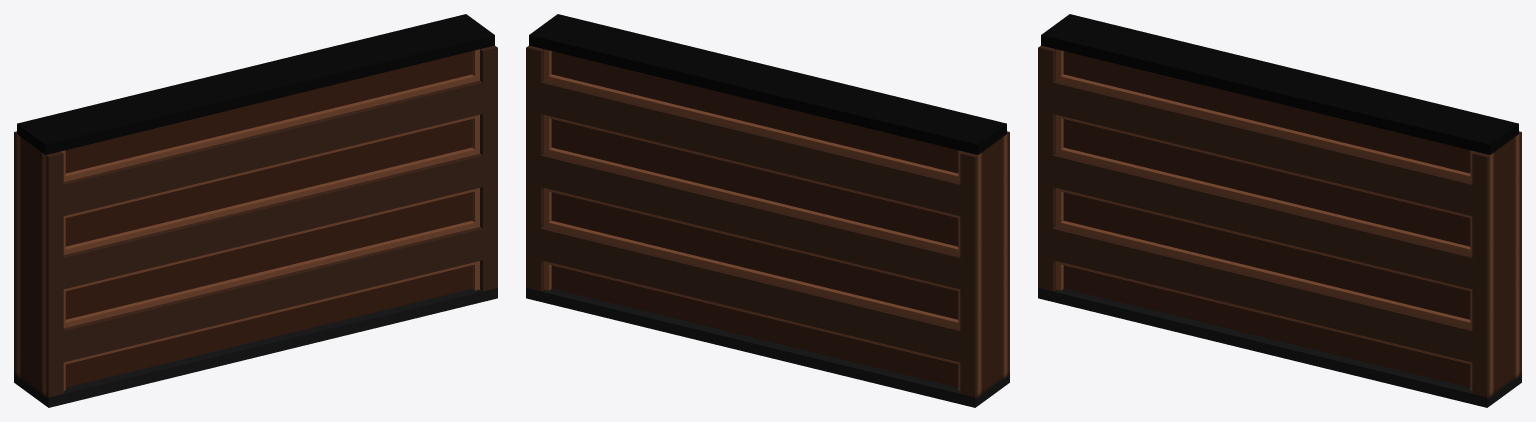
File: Wall-Wood-Model-11.fbx
3 renders of one model, left to right at view 1: azimuth 30°, elevation 25°; view 2: azimuth 150°, elevation 25°; view 3: azimuth 330°, elevation 25°, orthographic.
Parts seen in each view (by area): view 1: Wall-Wood-Model-11; view 2: Wall-Wood-Model-11; view 3: Wall-Wood-Model-11.
Boxes of the visible parts, x1,y1,x2,y2 form: Wall-Wood-Model-11: [14, 14, 497, 407]; Wall-Wood-Model-11: [526, 14, 1009, 407]; Wall-Wood-Model-11: [1038, 14, 1521, 407].
Size of the model in its own units: 90 by 50 by 12.
Materials: 1 (1 with a texture image).
